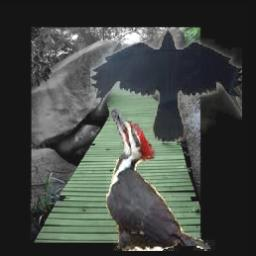Crow: (91, 30, 243, 143)
Woodpecker: (106, 109, 215, 252)
